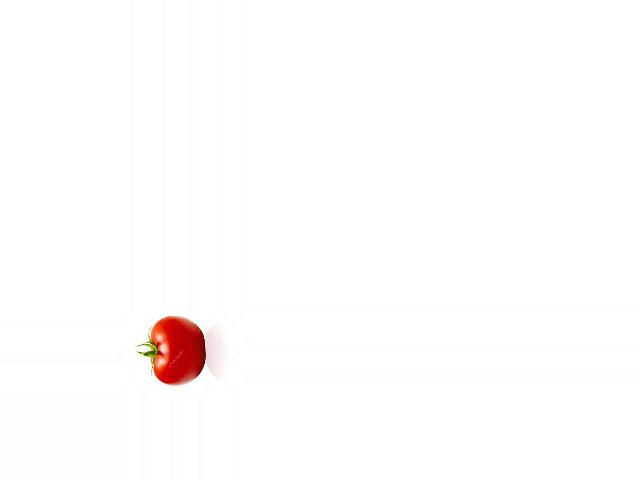tomato: (150, 315, 205, 386)
